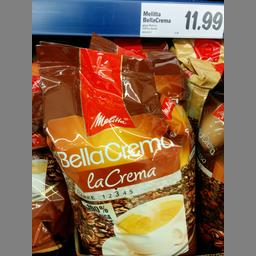coffee: (34, 38, 196, 255)
